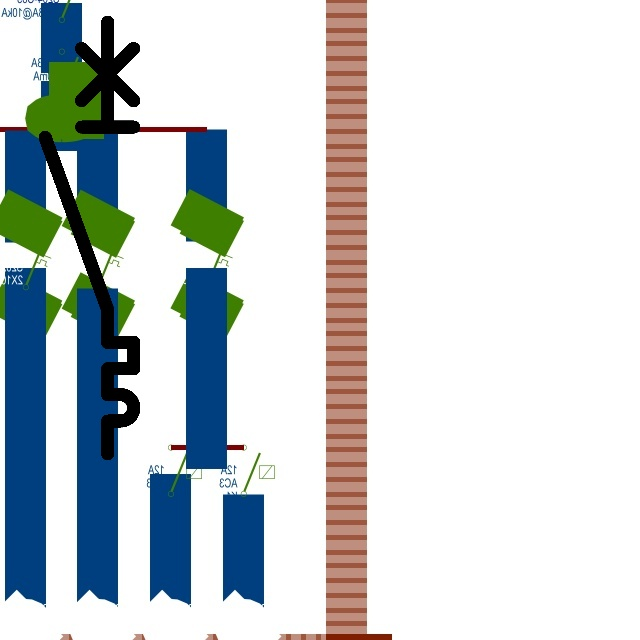interruptor_termomagnetico: (34, 11, 145, 465)
